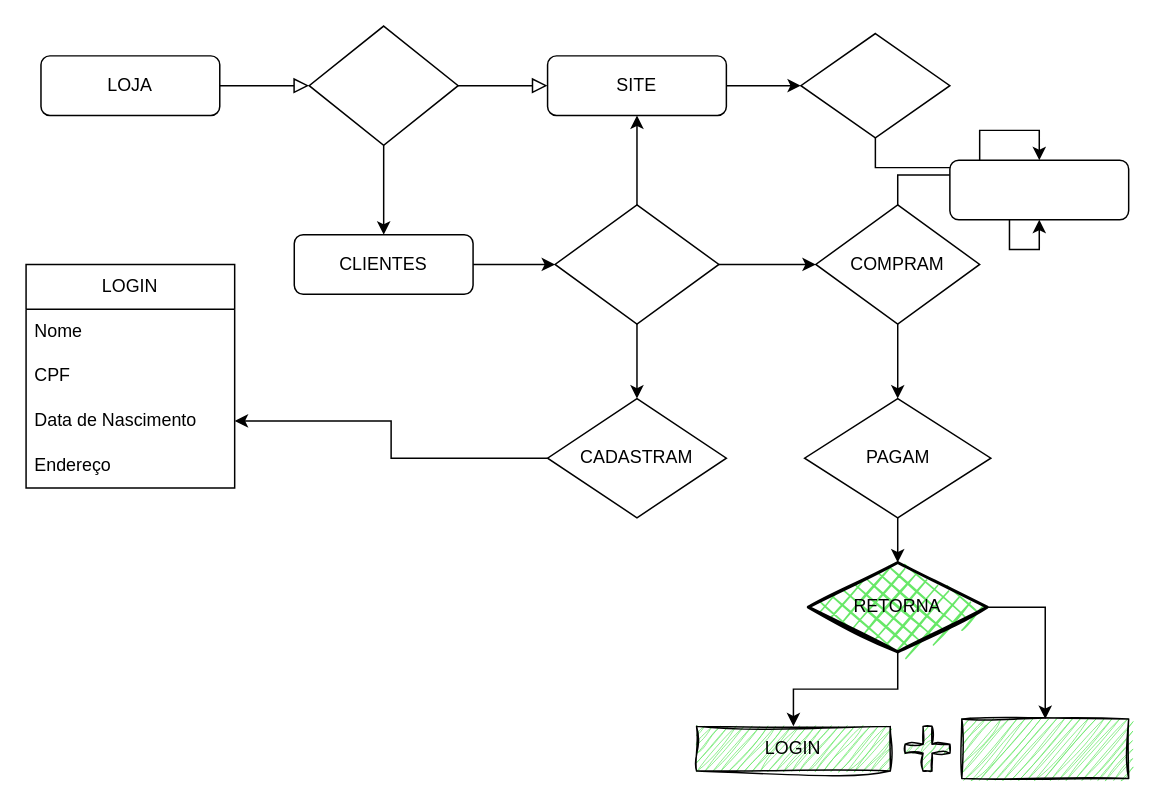
This 1155x805 diagram has some shape labels left out. The shapes that lost their labels are listed below. From the top down, each one's box as (x1, y1, x2, y2) in pixels, then its label:
(308, 25, 458, 145): POSSUI
(799, 32, 950, 138): VENDE
(948, 159, 1129, 220): PRODUTOS
(554, 203, 719, 324): ACESSAM
(960, 717, 1129, 779): FORMA DE PAGAMENTO
